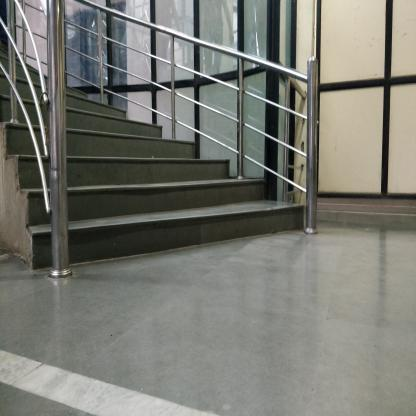stairs: (72, 159, 234, 265)
